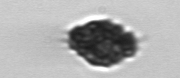plankton: (54, 13, 147, 72)
